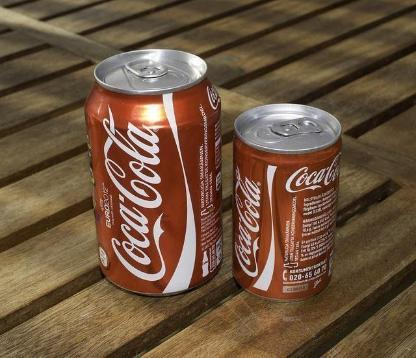Can: (83, 48, 223, 298), (232, 103, 342, 303)
